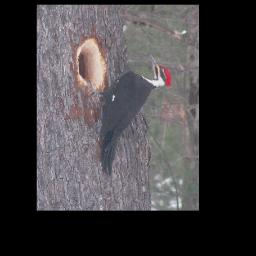Woodpecker: (83, 54, 174, 176)
